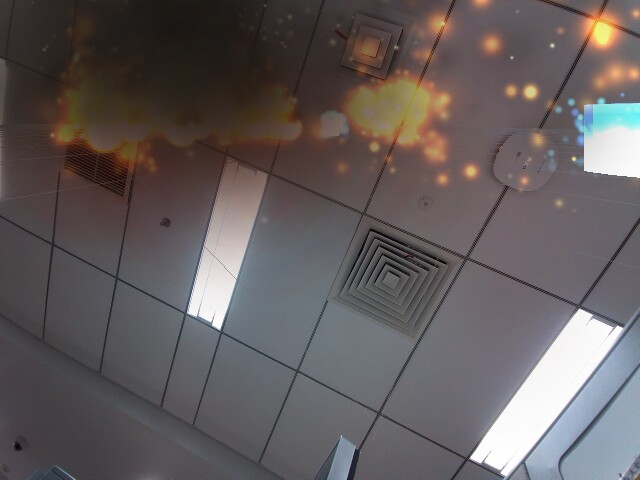fire: (79, 111, 123, 154), (164, 114, 202, 150)
